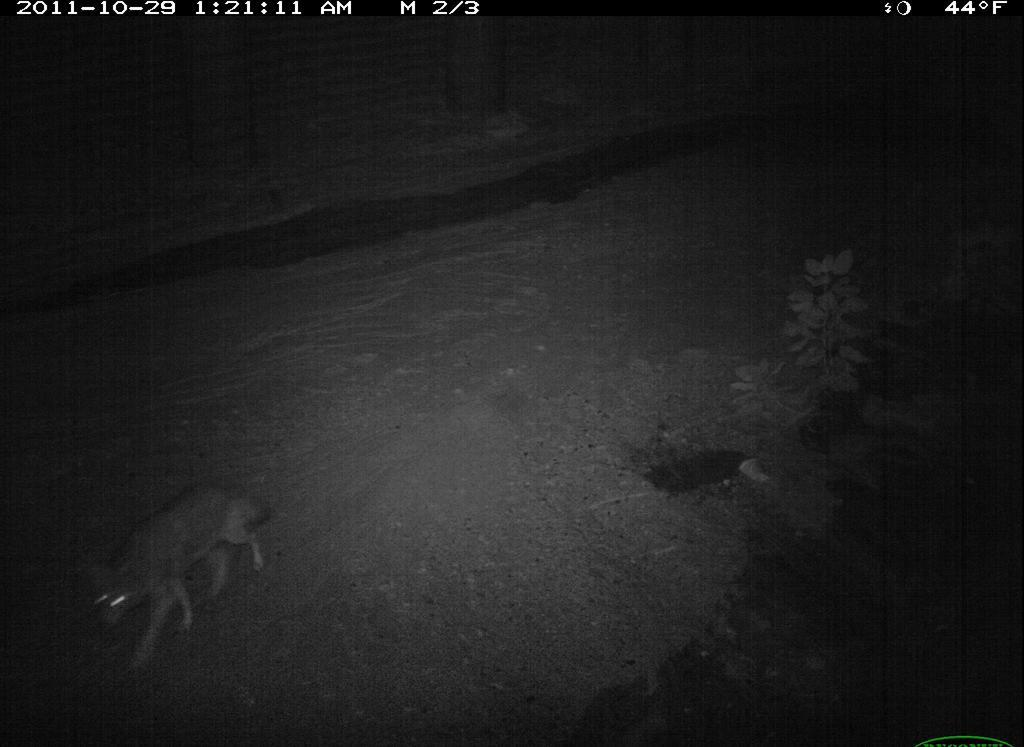coyote: (76, 475, 281, 671)
